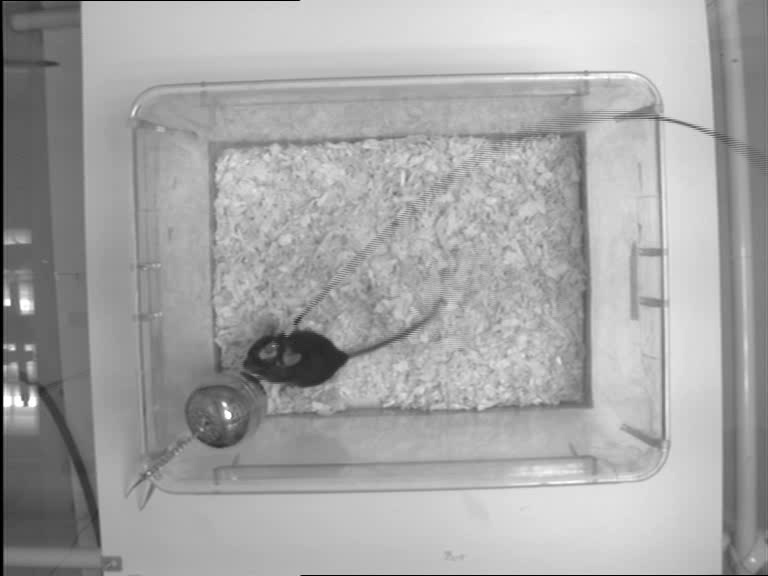mice: (241, 299, 441, 390)
